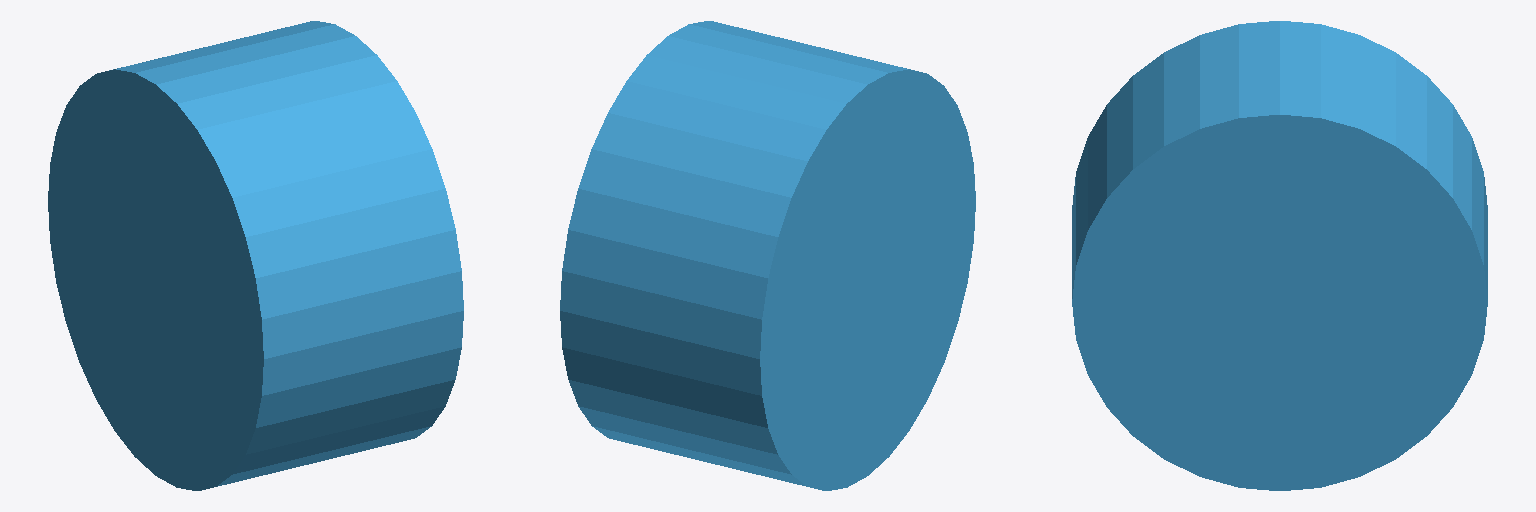
The robot description file, URDF, robot "Yaskawa_gp4":
<?xml version="1.0" encoding="utf-8"?>
<robot name="Yaskawa_gp4" xmlns:xacro="http://ros.org/wiki/xacro" path="../assets/gp4_lego/gp4.urdf">
	<link name="world"></link>
	<link name="base"></link>
	<link name="base_link">
		<inertial>
			<origin xyz="-0.073983 0.00022734 0.13031" rpy="0 0 0"></origin>
			<mass value="42.212"></mass>
			<inertia ixx="0.64296" ixy="0.0012624" ixz="-0.068804" iyy="1.2709" iyz="-0.0010754" izz="1.3497"></inertia>
		</inertial>
		<visual>
			<geometry>
				<mesh filename="gp4/base_link.stl"></mesh>
			</geometry>
		</visual>
		<collision>
			<geometry>
				<sphere radius="0.145161"></sphere>
			</geometry>
			<origin xyz="-0.030634019150972365 -2.3021806955337534e-05 0.07861094463970823" rpy="0 0 0"></origin>
		</collision>
	</link>
	<link name="link_1">
		<inertial>
			<origin xyz="0.058962 0.24363 -0.018725" rpy="0 0 0"></origin>
			<mass value="37.265"></mass>
			<inertia ixx="0.95018" ixy="-0.14402" ixz="-0.064915" iyy="1.0578" iyz="0.037699" izz="1.094"></inertia>
		</inertial>
		<visual>
			<geometry>
				<mesh filename="gp4/link_1.stl"></mesh>
			</geometry>
		</visual>
		<collision>
			<geometry>
				<sphere radius="0.116389"></sphere>
			</geometry>
			<origin xyz="-0.003947012403726578 0.00042604842877388 -0.07957098797893525" rpy="0 0 0"></origin>
		</collision>
		<collision>
			<geometry>
				<sphere radius="0.113803"></sphere>
			</geometry>
			<origin xyz="-0.0007430124037265777 2.048428773880005e-06 -0.004696987978935245" rpy="0 0 0"></origin>
		</collision>
	</link>
	<link name="link_2">
		<inertial>
			<origin xyz="3.5083E-05 0.39008 0.15036" rpy="0 0 0"></origin>
			<mass value="22.632"></mass>
			<inertia ixx="1.7745" ixy="-0.0054743" ixz="0.00063015" iyy="0.15511" iyz="-0.09224" izz="1.826"></inertia>
		</inertial>
		<visual>
			<geometry>
				<mesh filename="gp4/link_2.stl"></mesh>
			</geometry>
		</visual>
		<collision>
			<geometry>
				<sphere radius="0.127532"></sphere>
			</geometry>
			<origin xyz="-0.030863542814776535 0.0033705792253270798 0.12160294650002601" rpy="0 0 0"></origin>
		</collision>
		<collision>
			<geometry>
				<sphere radius="0.116702"></sphere>
			</geometry>
			<origin xyz="-0.009157542814776536 0.01002657922532708 0.024801946500026012" rpy="0 0 0"></origin>
		</collision>
		<collision>
			<geometry>
				<sphere radius="0.099999"></sphere>
			</geometry>
			<origin xyz="-0.013797542814776536 -0.06003142077467292 0.226649946500026" rpy="0 0 0"></origin>
		</collision>
		<collision>
			<geometry>
				<sphere radius="0.091318"></sphere>
			</geometry>
			<origin xyz="-0.009467542814776537 0.06468457922532708 0.23478694650002602" rpy="0 0 0"></origin>
		</collision>
	</link>
	<link name="link_3">
		<inertial>
			<origin xyz="0.086423 0.14427 -0.035793" rpy="0 0 0"></origin>
			<mass value="28.467"></mass>
			<inertia ixx="0.65771" ixy="-0.13627" ixz="-0.026219" iyy="0.52683" iyz="0.051956" izz="0.69722"></inertia>
		</inertial>
		<visual>
			<geometry>
				<mesh filename="gp4/link_3.stl"></mesh>
			</geometry>
		</visual>
		<collision>
			<geometry>
				<sphere radius="0.108494"></sphere>
			</geometry>
			<origin xyz="0.01155402389073372 0.00649709885430336 -0.0011659696273803712" rpy="0 0 0"></origin>
		</collision>
	</link>
	<link name="link_4">
		<inertial>
			<origin xyz="0.37337 0.00033491 0.012656" rpy="0 0 0"></origin>
			<mass value="7.629"></mass>
			<inertia ixx="0.018151" ixy="-0.00033527" ixz="-0.031589" iyy="0.48072" iyz="3.3917E-05" izz="0.47647"></inertia>
		</inertial>
		<visual>
			<geometry>
				<mesh filename="gp4/link_4.stl"></mesh>
			</geometry>
		</visual>
		<collision>
			<geometry>
				<sphere radius="0.087739"></sphere>
			</geometry>
			<origin xyz="-0.12295802021551133 0.00021011886656284332 0.00045296638298034667" rpy="0 0 0"></origin>
		</collision>
		<collision>
			<geometry>
				<sphere radius="0.080663"></sphere>
			</geometry>
			<origin xyz="-0.022747020215511324 0.0008201188665628433 -0.0003460336170196534" rpy="0 0 0"></origin>
		</collision>
	</link>
	<link name="link_5">
		<inertial>
			<origin xyz="0.062818 3.3289E-05 0.0048991" rpy="0 0 0"></origin>
			<mass value="2.5794"></mass>
			<inertia ixx="0.015161" ixy="-2.4835E-06" ixz="0.0016647" iyy="0.021382" iyz="-2.248E-06" izz="0.013473"></inertia>
		</inertial>
		<visual>
			<geometry>
				<mesh filename="gp4/link_5.stl"></mesh>
			</geometry>
		</visual>
		<collision>
			<geometry>
				<sphere radius="0.065188"></sphere>
			</geometry>
			<origin xyz="0.014196006263256074 -0.0016248214304447174 -9.637603759765764e-07" rpy="0 0 0"></origin>
		</collision>
	</link>
	<link name="link_6">
		<inertial>
			<origin xyz="0.00015982 -0.00063018 -0.008266" rpy="0 0 0"></origin>
			<mass value="0.10811"></mass>
			<inertia ixx="9.0129E-05" ixy="-1.0891E-08" ixz="9.1598E-09" iyy="9.2026E-05" iyz="-2.749E-07" izz="0.00017818"></inertia>
		</inertial>
		<visual>
			<geometry>
				<mesh filename="gp4/link_6.stl"></mesh>
			</geometry>
		</visual>
		<collision>
			<geometry>
				<sphere radius="0.022972"></sphere>
			</geometry>
			<origin xyz="0.06725001335144043 -5.284726309776306e-05 -0.012774910593032837" rpy="0 0 0"></origin>
		</collision>
		<collision>
			<geometry>
				<sphere radius="0.023049"></sphere>
			</geometry>
			<origin xyz="0.06725001335144043 -0.010521847263097763 0.0068190894069671635" rpy="0 0 0"></origin>
		</collision>
		<collision>
			<geometry>
				<sphere radius="0.022052"></sphere>
			</geometry>
			<origin xyz="0.06726901335144043 0.011999152736902236 0.006232089406967163" rpy="0 0 0"></origin>
		</collision>
	</link>
	<link name="fts">
		<collision>
			<geometry>
				<sphere radius="0.063261"></sphere>
			</geometry>
			<origin xyz="2e-06 0.0 2e-06" rpy="0 0 0"></origin>
		</collision>
		<visual>
			<origin xyz="0 0 0" rpy="0 0 0"></origin>
			<geometry>
				<cylinder length="0.0505" radius="0.0472"></cylinder>
			</geometry>
		</visual>
		<inertial>
			<mass value="1e-5"></mass>
			<origin xyz="0 0 0" rpy="0 0 0"></origin>
			<inertia ixx="1e-6" ixy="0" ixz="0" iyy="1e-6" iyz="0" izz="1e-6"></inertia>
		</inertial>
	</link>
	<link name="link_tool">
		<inertial>
			<origin xyz="0 0 0" rpy="0 0 0"></origin>
			<mass value="0.10811"></mass>
			<inertia ixx="9.0129E-05" ixy="-1.0891E-08" ixz="9.1598E-09" iyy="9.2026E-05" iyz="-2.749E-07" izz="0.00017818"></inertia>
		</inertial>
		<visual>
			<origin xyz="0 0 0" rpy="0 0 0"></origin>
			<geometry>
				<mesh filename="eoat/tool_with_cam_gen35.stl"></mesh>
			</geometry>
		</visual>
		<collision>
			<geometry>
				<sphere radius="0.029354"></sphere>
			</geometry>
			<origin xyz="-0.0017652605978558111 0.000506512432185927 0.050171901189082865" rpy="0 0 0"></origin>
		</collision>
		<collision>
			<geometry>
				<sphere radius="0.0346"></sphere>
			</geometry>
			<origin xyz="0.0003217394021441889 0.005155512432185927 0.015226901189082861" rpy="0 0 0"></origin>
		</collision>
		<collision>
			<geometry>
				<sphere radius="0.035525"></sphere>
			</geometry>
			<origin xyz="0.001834739402144189 -0.002429487567814073 0.016496901189082862" rpy="0 0 0"></origin>
		</collision>
		<collision>
			<geometry>
				<sphere radius="0.031597"></sphere>
			</geometry>
			<origin xyz="-0.00804926059785581 -0.002479487567814073 0.014040901189082862" rpy="0 0 0"></origin>
		</collision>
	</link>
	<link name="flange"></link>
	<joint name="world_fixed" type="fixed">
		<parent link="world"></parent>
		<child link="base"></child>
	</joint>
	<joint name="base_link-base" type="fixed">
		<origin xyz="0 0 0.0" rpy="0 0 0"></origin>
		<parent link="base"></parent>
		<child link="base_link"></child>
	</joint>
	<joint name="joint_1" type="revolute">
		<parent link="base_link"></parent>
		<child link="link_1"></child>
		<origin xyz="0 0 0.330" rpy="0 0 0"></origin>
		<axis xyz="0 0 1"></axis>
		<limit effort="200" lower="-2.9670597283903604" upper="2.9670597283903604" velocity="2"></limit>
	</joint>
	<joint name="joint_2" type="revolute">
		<parent link="link_1"></parent>
		<child link="link_2"></child>
		<origin xyz="0 0 0" rpy="0 0 0"></origin>
		<axis xyz="0 1 0"></axis>
		<limit effort="200" lower="-1.9198621771937625" upper="2.2689280275926285" velocity="2"></limit>
	</joint>
	<joint name="joint_3" type="revolute">
		<parent link="link_2"></parent>
		<child link="link_3"></child>
		<origin xyz="0 0 0.260" rpy="0 0 0"></origin>
		<axis xyz="0 -1 0"></axis>
		<limit effort="200" lower="-1.1344640137963142" upper="3.490658503988659" velocity="2"></limit>
	</joint>
	<joint name="joint_4" type="revolute">
		<parent link="link_3"></parent>
		<child link="link_4"></child>
		<origin xyz="0.290 0 0.015" rpy="0 0 0"></origin>
		<axis xyz="-1 0 0"></axis>
		<limit effort="200" lower="-3.490658503988659" upper="3.490658503988659" velocity="2"></limit>
	</joint>
	<joint name="joint_5" type="revolute">
		<parent link="link_4"></parent>
		<child link="link_5"></child>
		<origin xyz="0 0 0" rpy="0 0 0"></origin>
		<axis xyz="0 -1 0"></axis>
		<limit effort="200" lower="-1.98968" upper="1.98968" velocity="2"></limit>
	</joint>
	<joint name="joint_6" type="revolute">
		<parent link="link_5"></parent>
		<child link="link_6"></child>
		<origin xyz="0 0 0" rpy="0 0 0"></origin>
		<axis xyz="-1 0 0"></axis>
		<limit effort="200" lower="-7.941248096574199" upper="7.941248096574199" velocity="2"></limit>
	</joint>
	<joint name="joint_6_t-flange" type="fixed">
		<origin xyz="0.072 0 0" rpy="0 0 0"></origin>
		<parent link="link_6"></parent>
		<child link="flange"></child>
	</joint>
	<joint name="link_6_fts" type="fixed">
		<origin rpy="0 1.5707963267948966 0" xyz="0.02525 0 0"></origin>
		<parent link="flange"></parent>
		<child link="fts"></child>
	</joint>
	<joint name="fts_tool" type="fixed">
		<origin rpy="0 0 3.141592653589793" xyz="0 0 0.02525"></origin>
		<parent link="fts"></parent>
		<child link="link_tool"></child>
	</joint>
</robot>

--- Facts derived from the render (not from the file) ---
3 views of the same robot in one strip: view 1: azimuth 30°, elevation 25°; view 2: azimuth 150°, elevation 25°; view 3: azimuth 270°, elevation 25° (orthographic).
Model Yaskawa_gp4 with 12 links and 11 joints (6 revolute, 5 fixed), rooted at world, posed all joints at 0.
Visible links, largest first — view 1: fts; view 2: fts; view 3: fts.
Boxes of the visible links, x1,y1,x2,y2 form: fts: (48, 21, 463, 490); fts: (560, 21, 975, 490); fts: (1072, 21, 1487, 490).
Size in the robot's own frame: 0.0505 by 0.0944 by 0.0944 metres.
0 mesh visuals loaded from 8 distinct referenced files (none loaded); not drawn: 8 (reference not matched to a file when rendering).